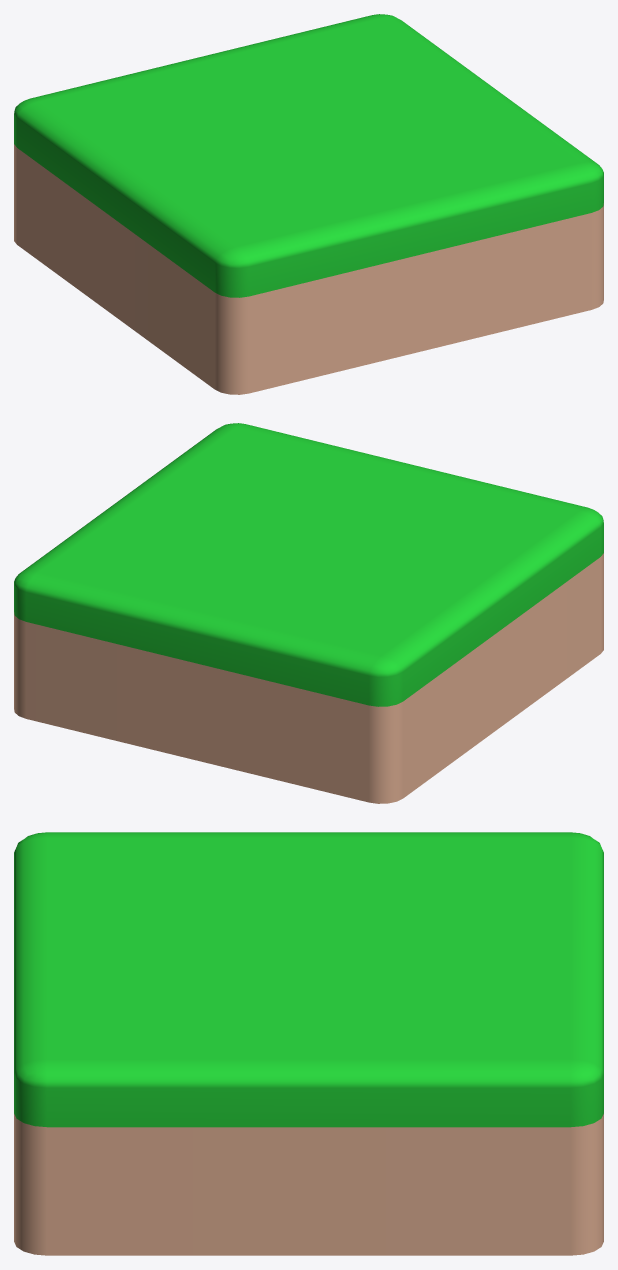
File: cevre_geo.fbx
3 views of the same model, one above another, from view 1: azimuth 30°, elevation 25°; view 2: azimuth 150°, elevation 25°; view 3: azimuth 270°, elevation 25° (orthographic). The views are drawn at different scales.
Parts seen in each view (by area): view 1: cevre; view 2: cevre; view 3: cevre.
Boxes of the visible parts, left/top/right/bottom form: cevre: left=14, top=14, right=603, bottom=394; cevre: left=14, top=423, right=603, bottom=803; cevre: left=14, top=832, right=603, bottom=1255.
Bounding box in the file's own units: 15.34 × 5.23 × 15.34.
